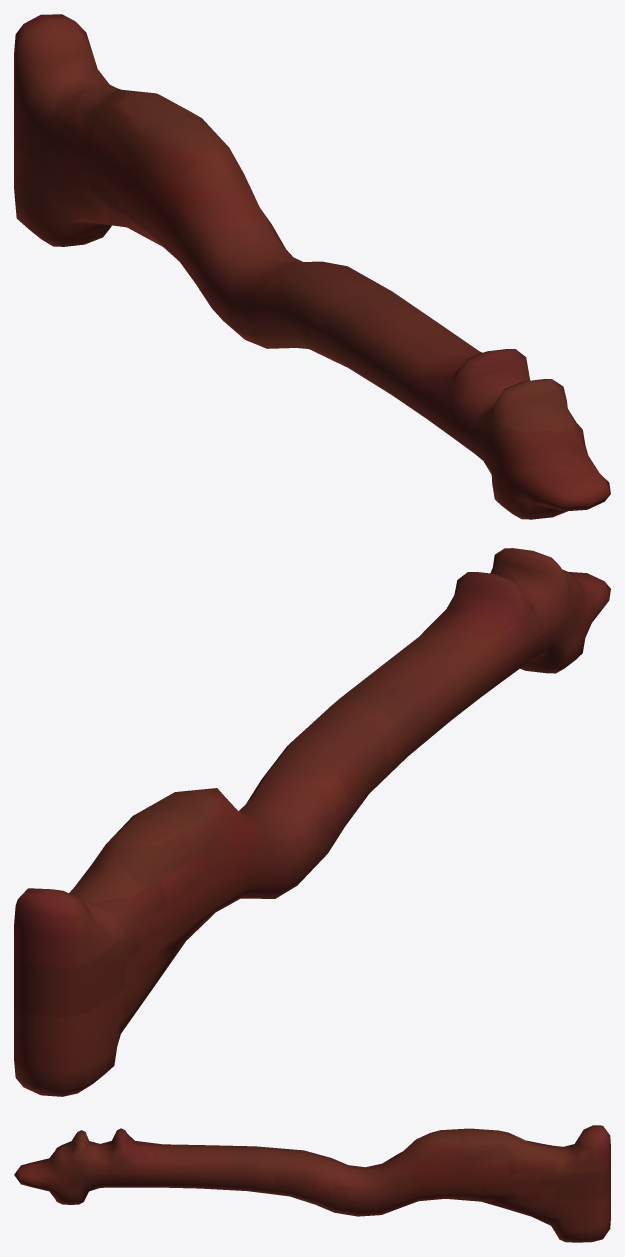
File: rama.fbx
3 renders of one model, top to bottom at view 1: azimuth 30°, elevation 25°; view 2: azimuth 150°, elevation 25°; view 3: azimuth 270°, elevation 25°, orthographic. The views are drawn at different scales.
Parts seen in each view (by area): view 1: Rama; view 2: Rama; view 3: Rama.
Boxes of the visible parts, <box> form: Rama: <box>14,14,610,519</box>; Rama: <box>14,548,610,1096</box>; Rama: <box>14,1125,610,1242</box>.
Size of the model in its own units: 20 by 49.85 by 247.
